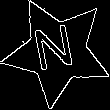N_S: (33, 23, 82, 80)
